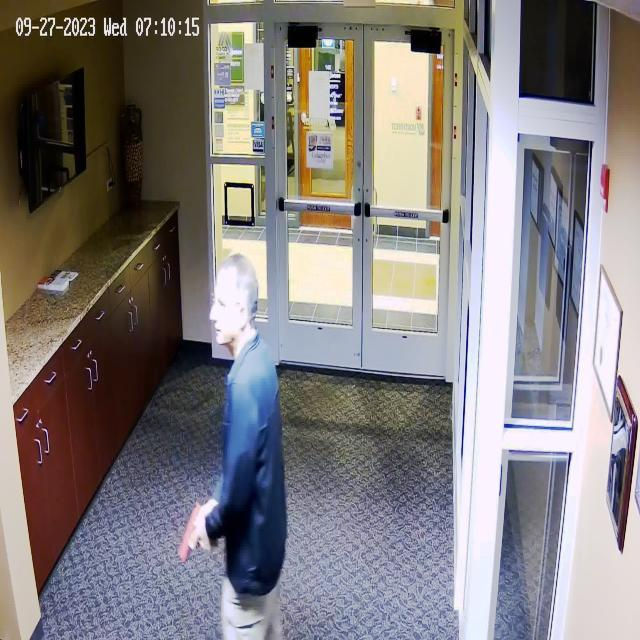Gun: (166, 495, 213, 562)
